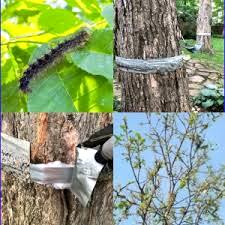Caterpillar: (13, 24, 96, 95)
